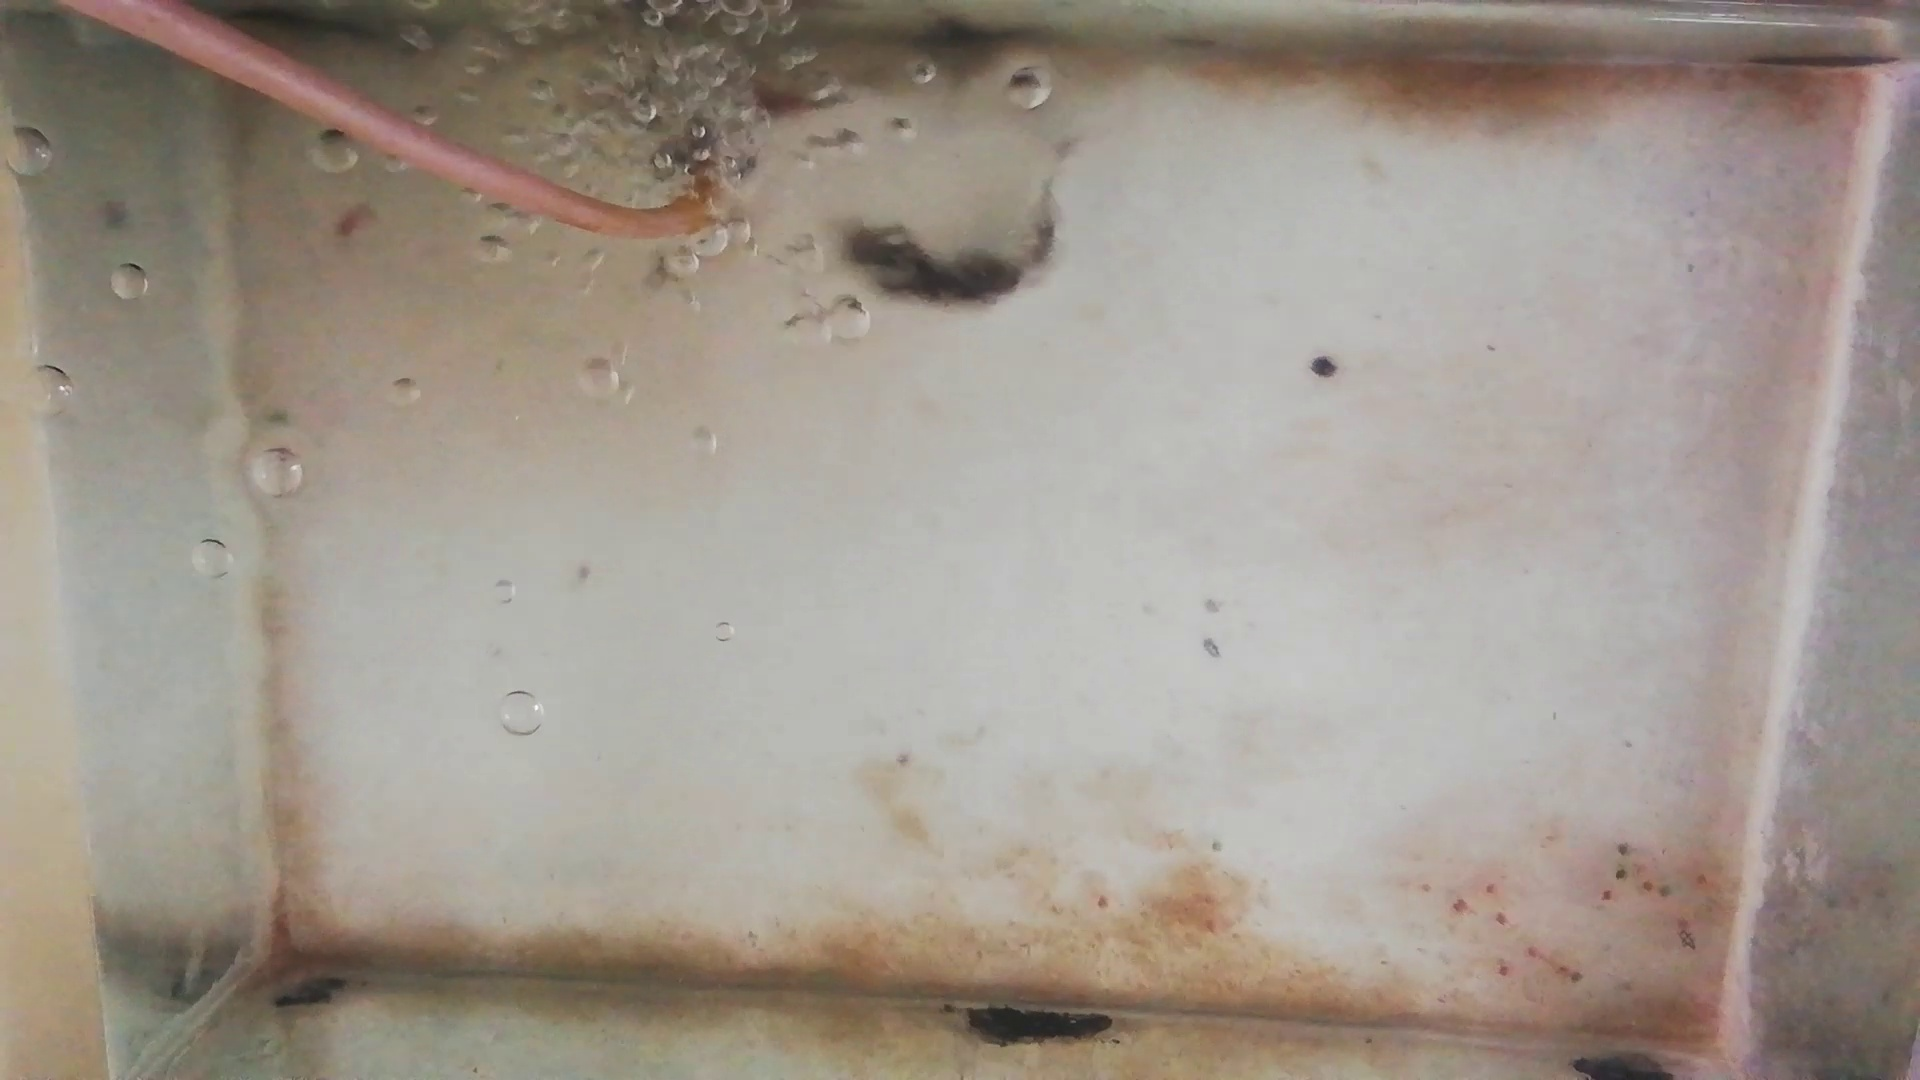fish: (848, 222, 1063, 309), (649, 65, 839, 123)
